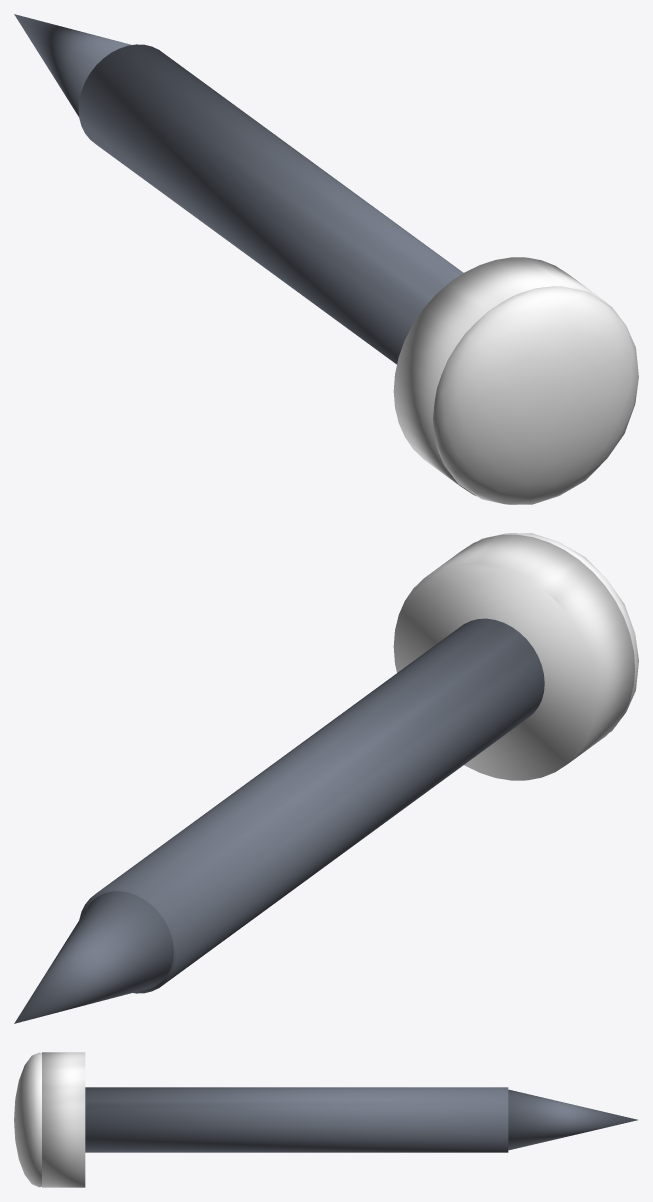
Rendered from nail-projectile.obj.
The picture shows the model from 3 angles, top to bottom: view 1: azimuth 30°, elevation 25°; view 2: azimuth 150°, elevation 25°; view 3: azimuth 270°, elevation 25°; orthographic projection. The views are drawn at different scales.
Parts seen in each view (by area): view 1: nail-projectile; view 2: nail-projectile; view 3: nail-projectile.
Boxes of the visible parts, <box> form: nail-projectile: <box>14,14,638,504</box>; nail-projectile: <box>14,533,638,1023</box>; nail-projectile: <box>14,1052,637,1187</box>.
Size of the model in its own units: 0.031 by 0.031 by 0.1434.
